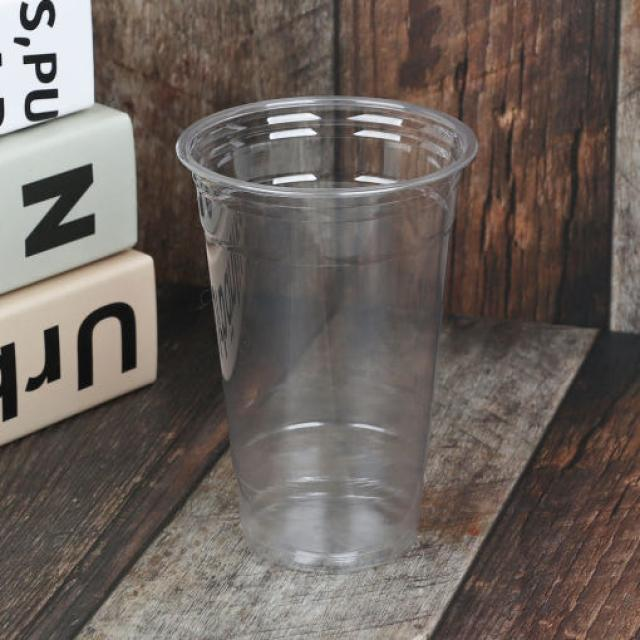plastic cup: (176, 96, 479, 568)
